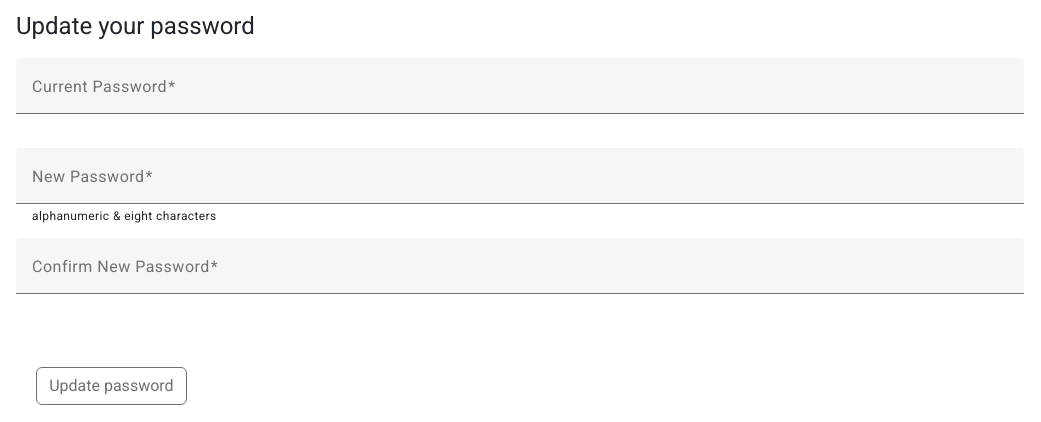
Test case: AccountManagePasswordComponent › form completion and submission › old password control › confirmPassword control › should show match validation messages when password and confirm password do not match
Type "yJwbgyieB4" into the password field with placeholder "password" at (520, 184), box [32,172,1008,196]
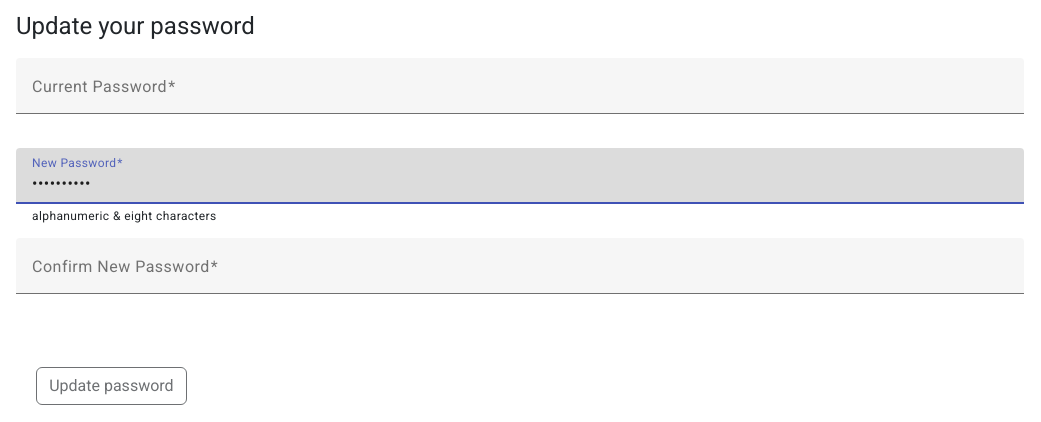
Type "not-match" into the password field with id "confirmPassword" at (520, 274), box [32,262,1008,286]
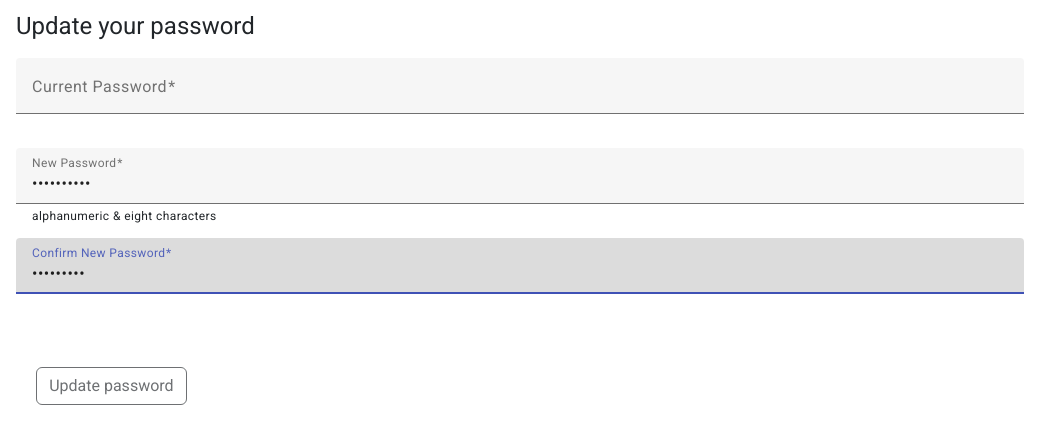
Leave the password field below "Confirm New Password", box [32,262,1008,286]
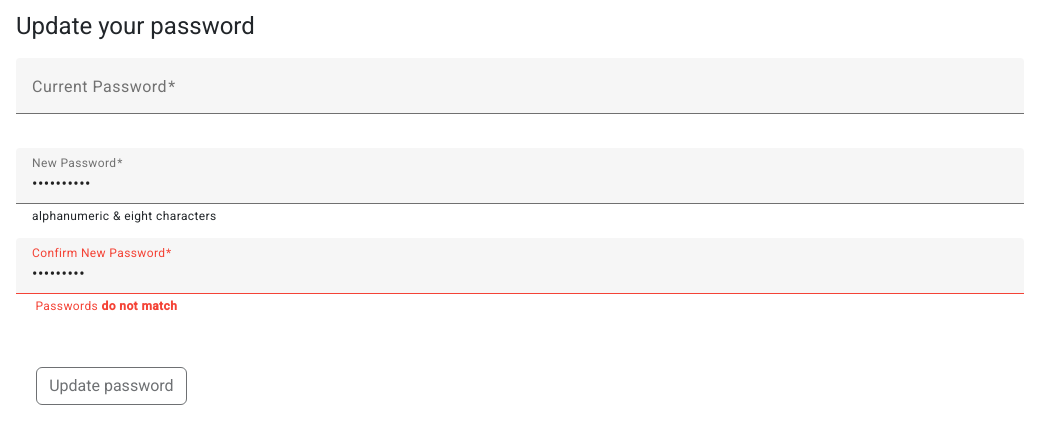
expect the element showing "Passwords do not match" is shown: met, box [32,299,177,313]
